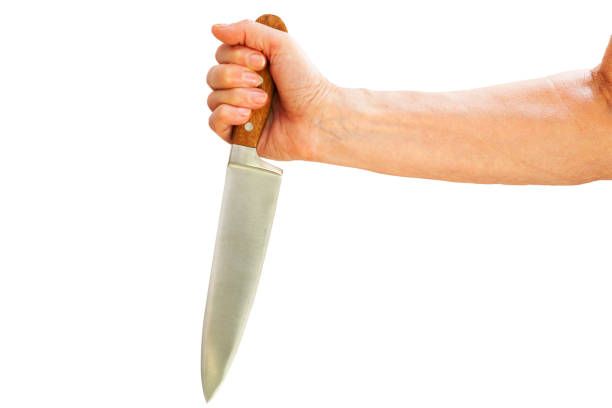knife: (197, 13, 289, 404)
